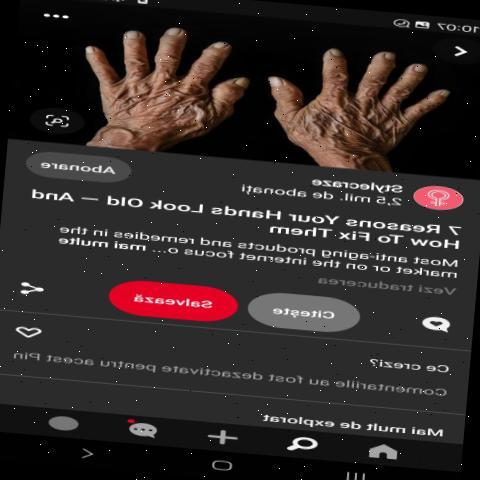Hands: (0, 26, 268, 148), (252, 36, 467, 166)
